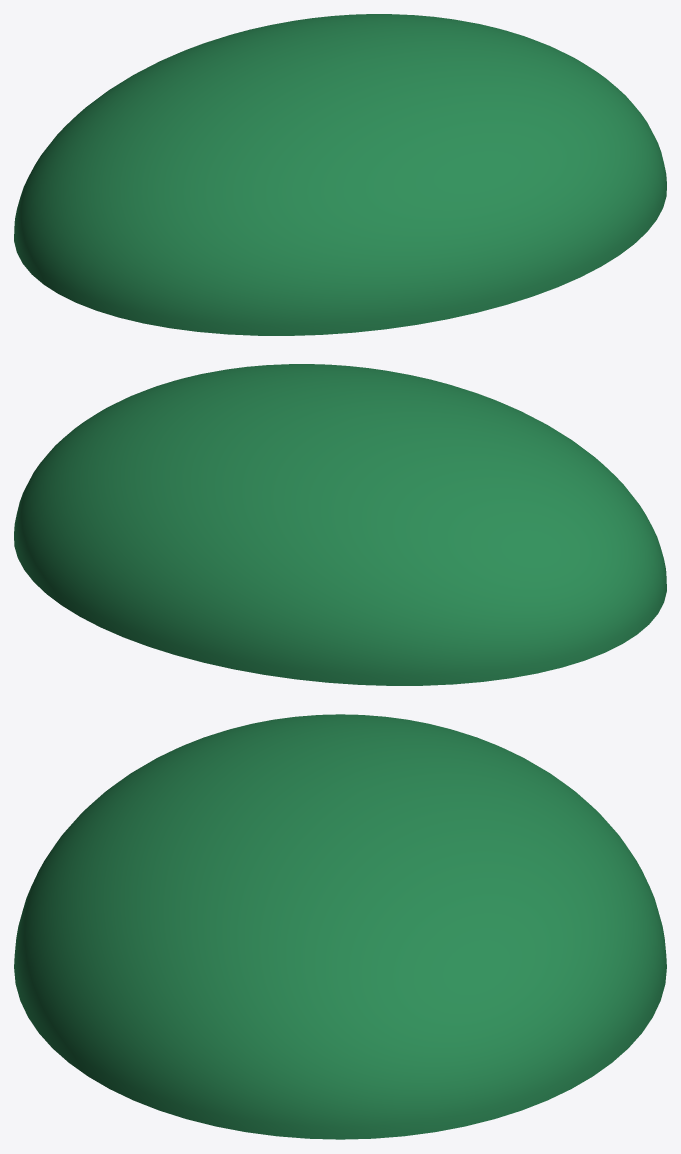
Rendered from jade.glb.
3 views of the same model, one above another, from view 1: azimuth 30°, elevation 25°; view 2: azimuth 150°, elevation 25°; view 3: azimuth 270°, elevation 25° (orthographic). The views are drawn at different scales.
Parts seen in each view (by area): view 1: jade; view 2: jade; view 3: jade.
Boxes of the visible parts, <box> form: jade: <box>14,14,666,335</box>; jade: <box>14,364,666,685</box>; jade: <box>14,714,666,1139</box>.
Size of the model in its own units: 0.25 by 0.0625 by 0.2.
